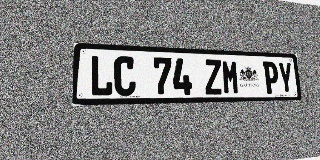4: (172, 58, 192, 95)
7: (152, 57, 173, 95)
C: (114, 56, 136, 96)
L: (90, 55, 113, 96)
M: (221, 60, 240, 94)
P: (263, 61, 280, 94)
Y: (277, 62, 294, 94)
Z: (204, 59, 223, 95)
